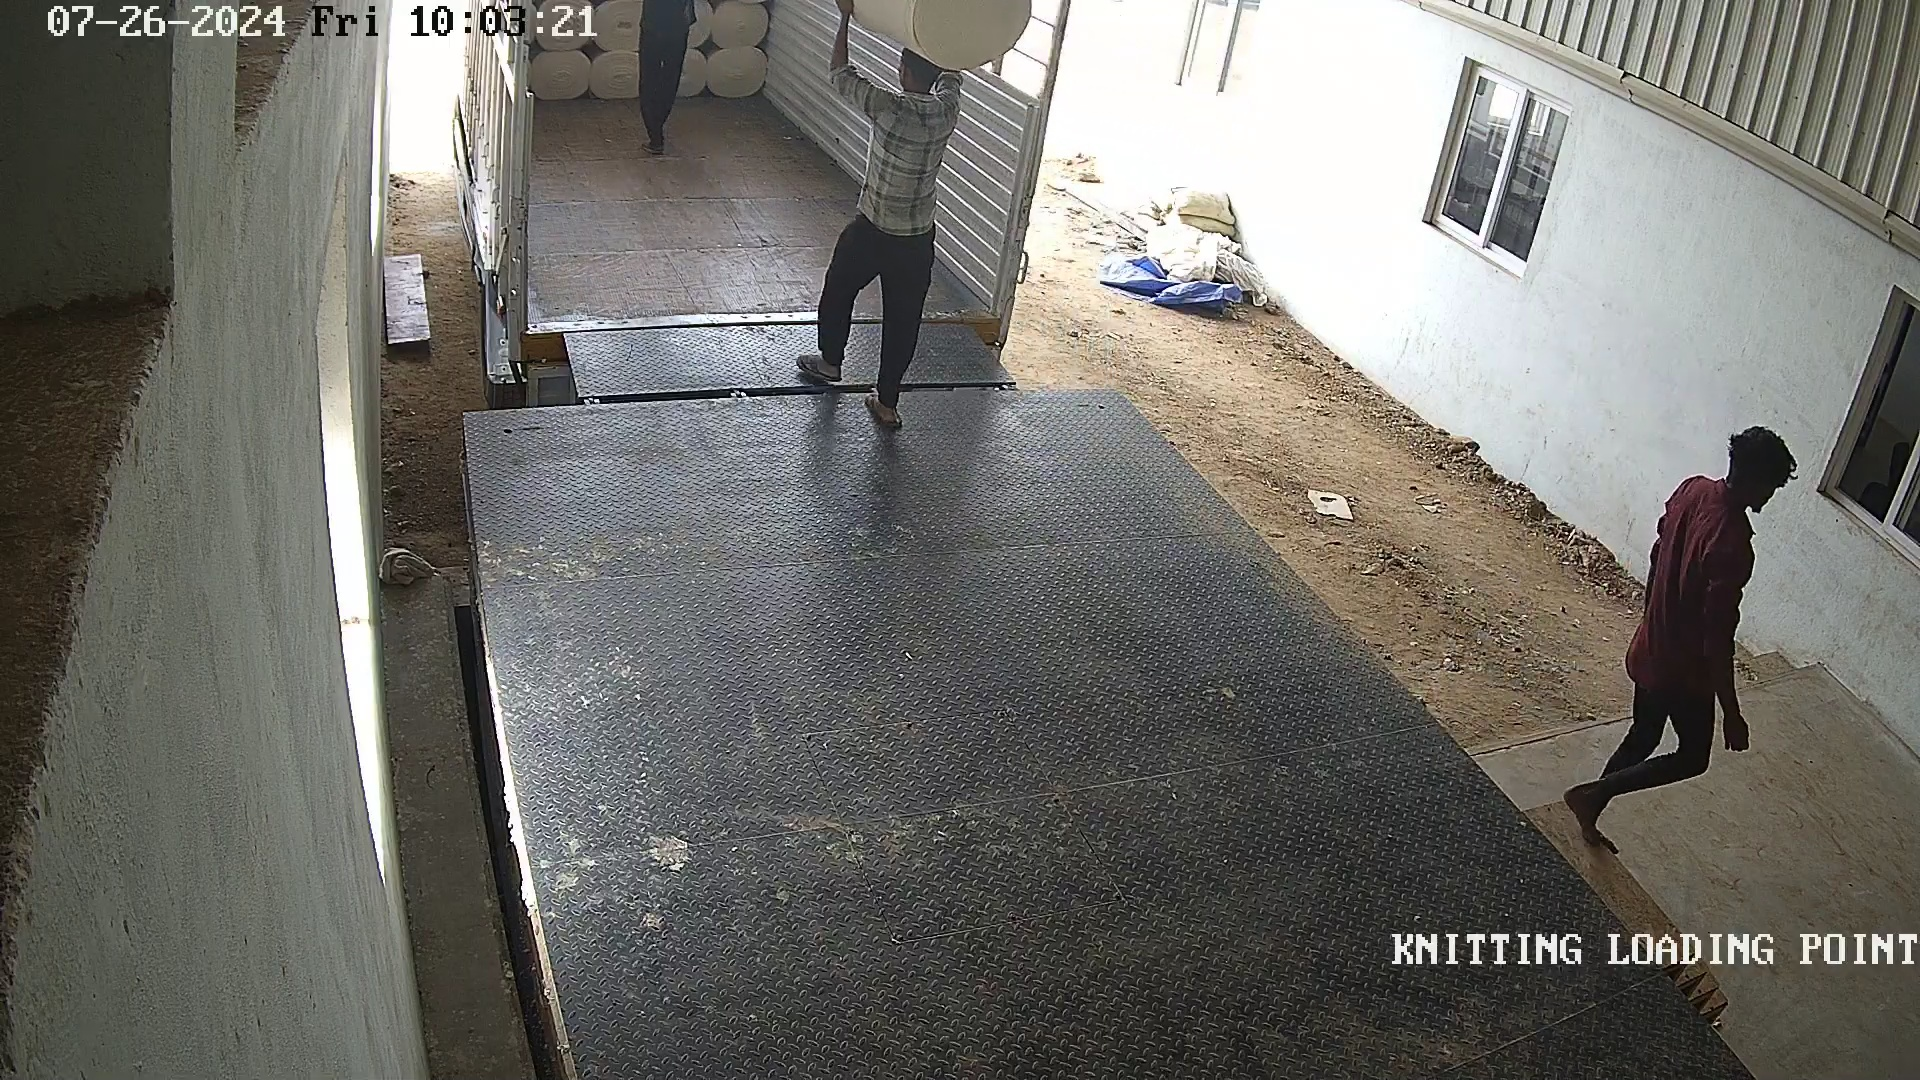bag: (811, 4, 1076, 70)
